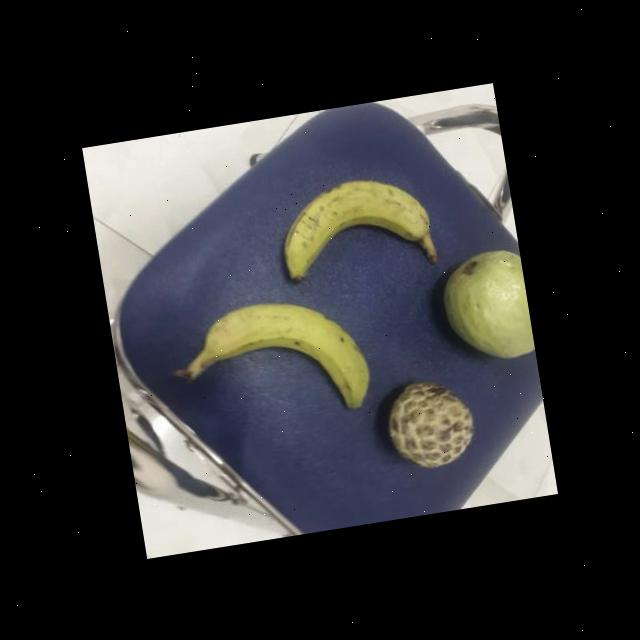Sakya fruit: (380, 375, 480, 479)
banana: (194, 290, 376, 439), (277, 168, 436, 288)
guava: (434, 244, 536, 370)
